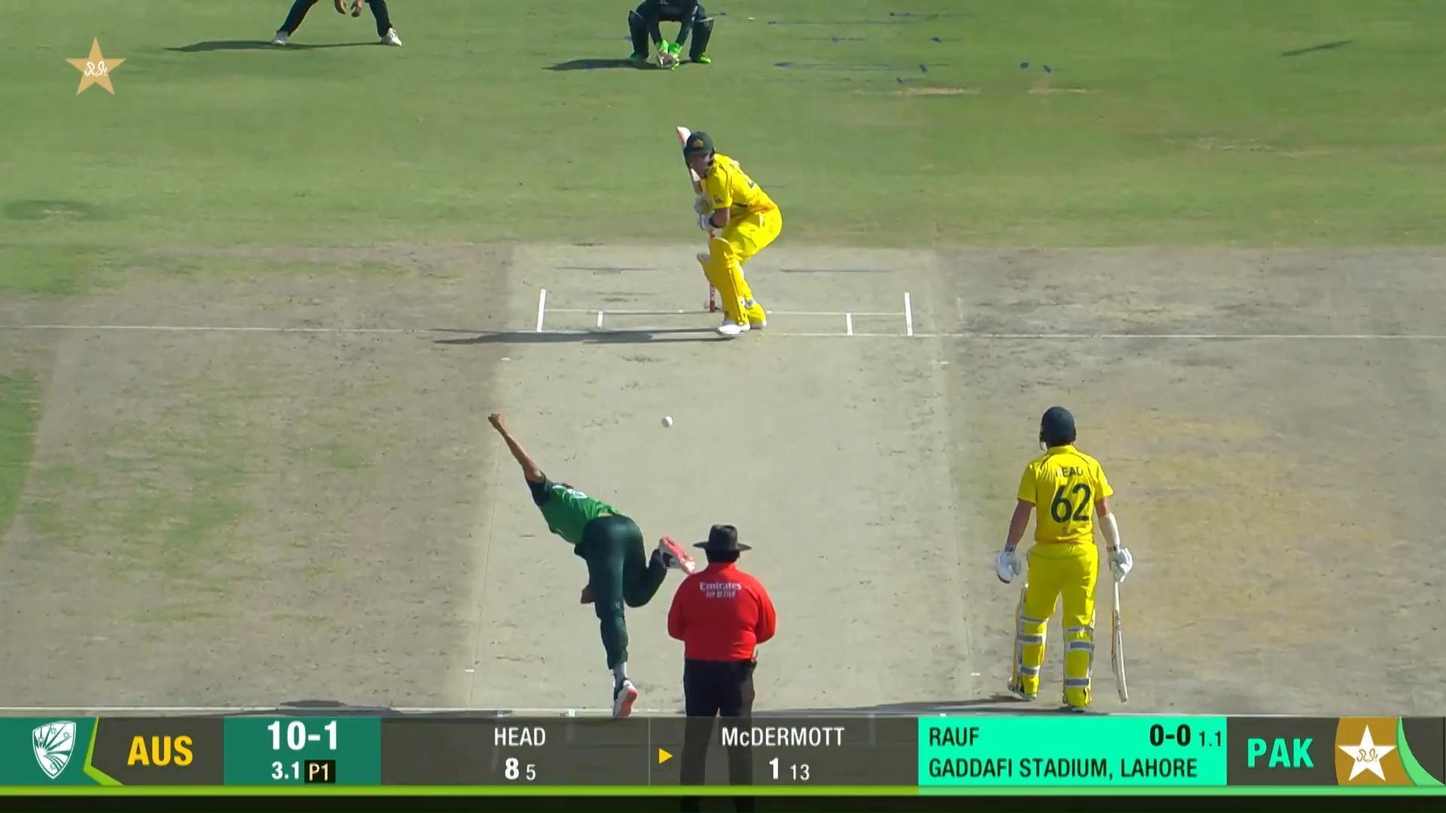BM 1: (676, 125, 782, 339)
BO: (485, 410, 699, 721)
